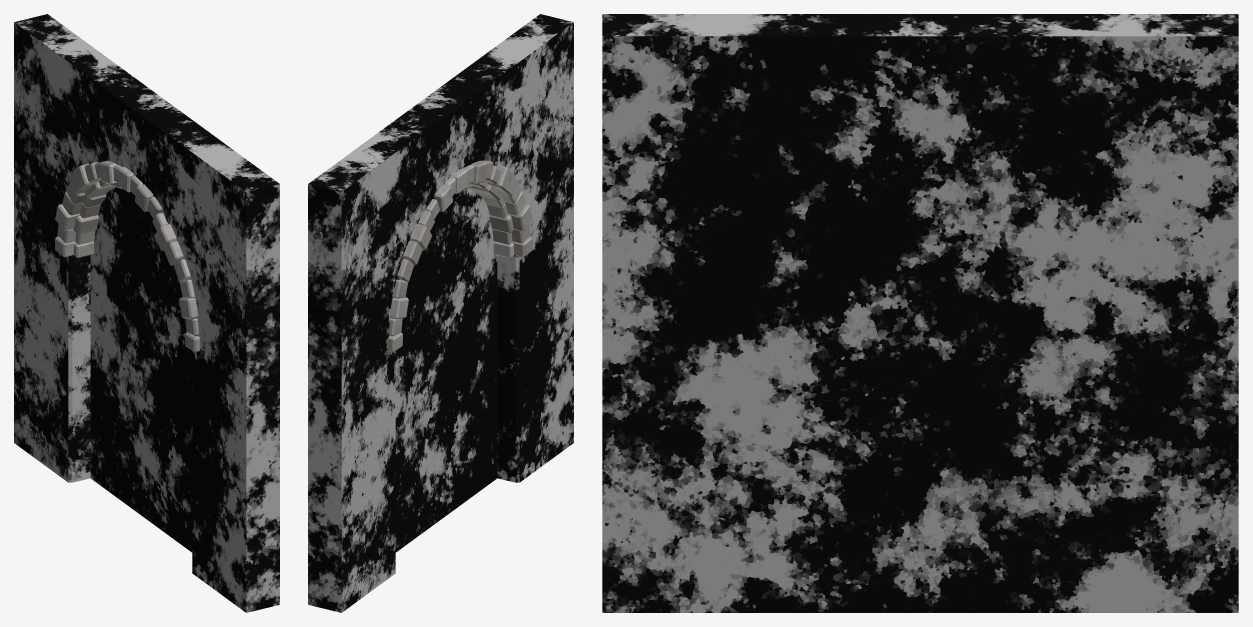
Rendered from SM_Wall_arch.fbx.
3 views of the same model, side by side, from view 1: azimuth 30°, elevation 25°; view 2: azimuth 150°, elevation 25°; view 3: azimuth 270°, elevation 25° (orthographic). The views are drawn at different scales.
Parts seen in each view (by area): view 1: SM_Wall_arch_LOD0; view 2: SM_Wall_arch_LOD0; view 3: SM_Wall_arch_LOD0.
Part boxes in pixels (x1,y1,x2,y2): SM_Wall_arch_LOD0: [14, 14, 279, 612]; SM_Wall_arch_LOD0: [308, 14, 573, 612]; SM_Wall_arch_LOD0: [602, 14, 1238, 612].
Size of the model in its own units: 64.73 by 600 by 600.
Materials: 2 (2 with a texture image).
